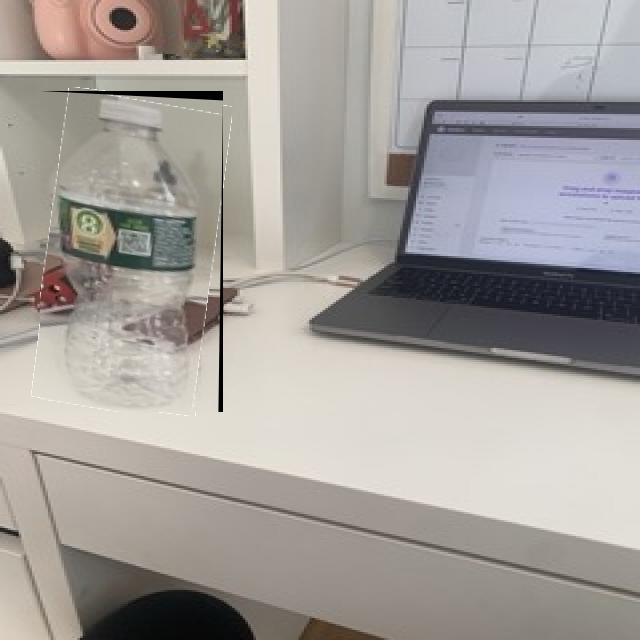water_bottle: (40, 91, 223, 412)
